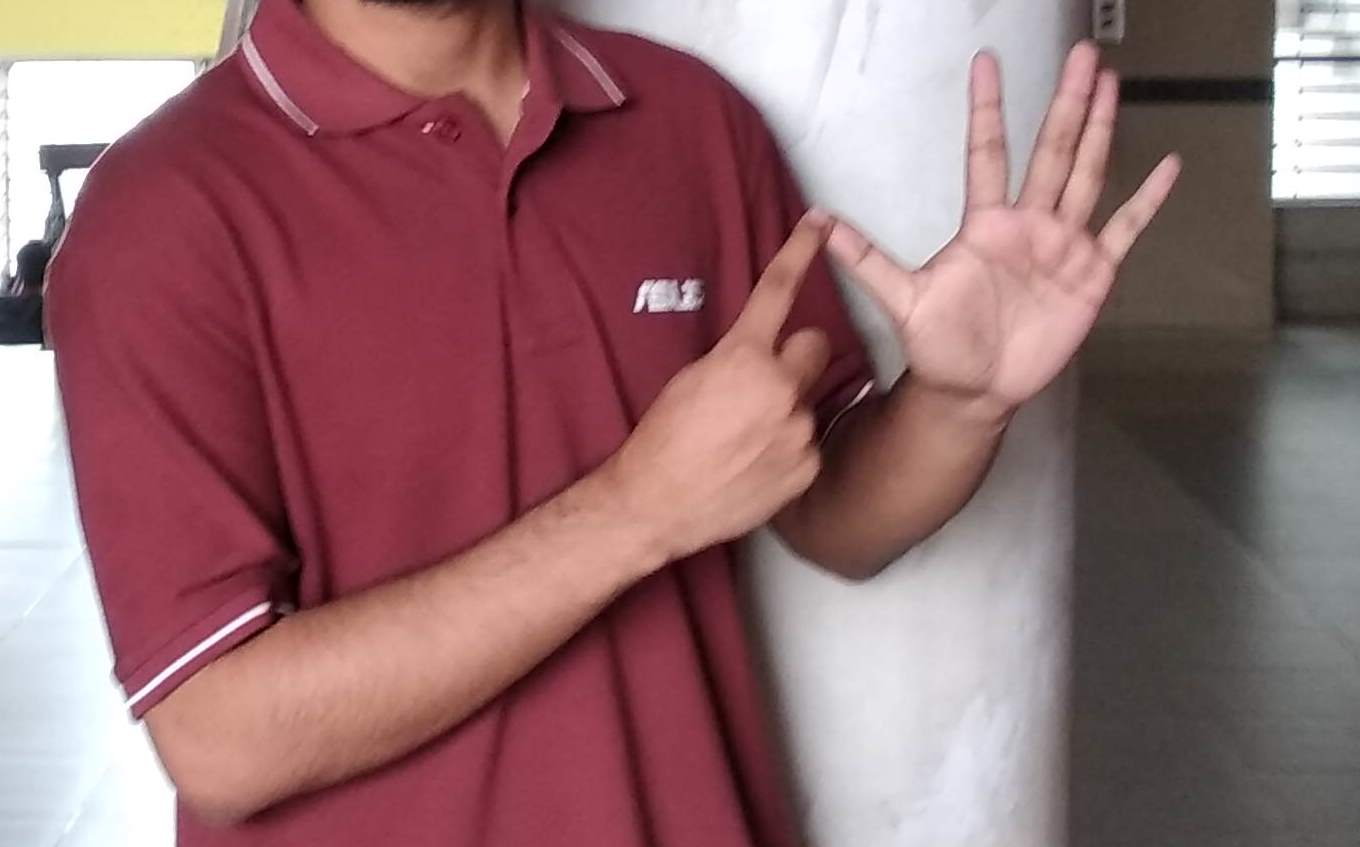a: (731, 35, 1172, 487)
